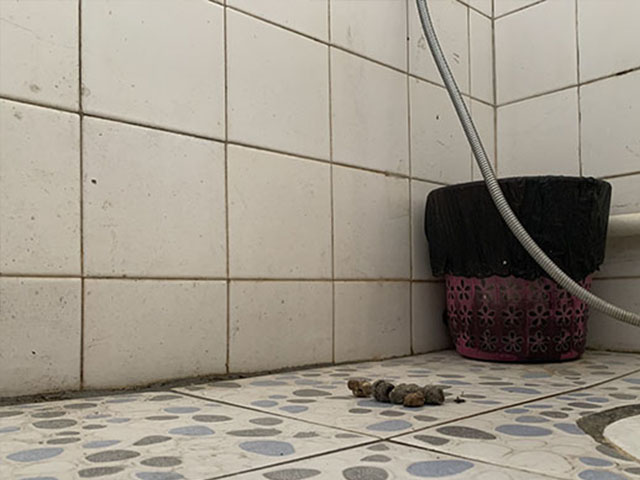feces: (346, 375, 445, 404)
trashcan: (422, 173, 614, 365)
